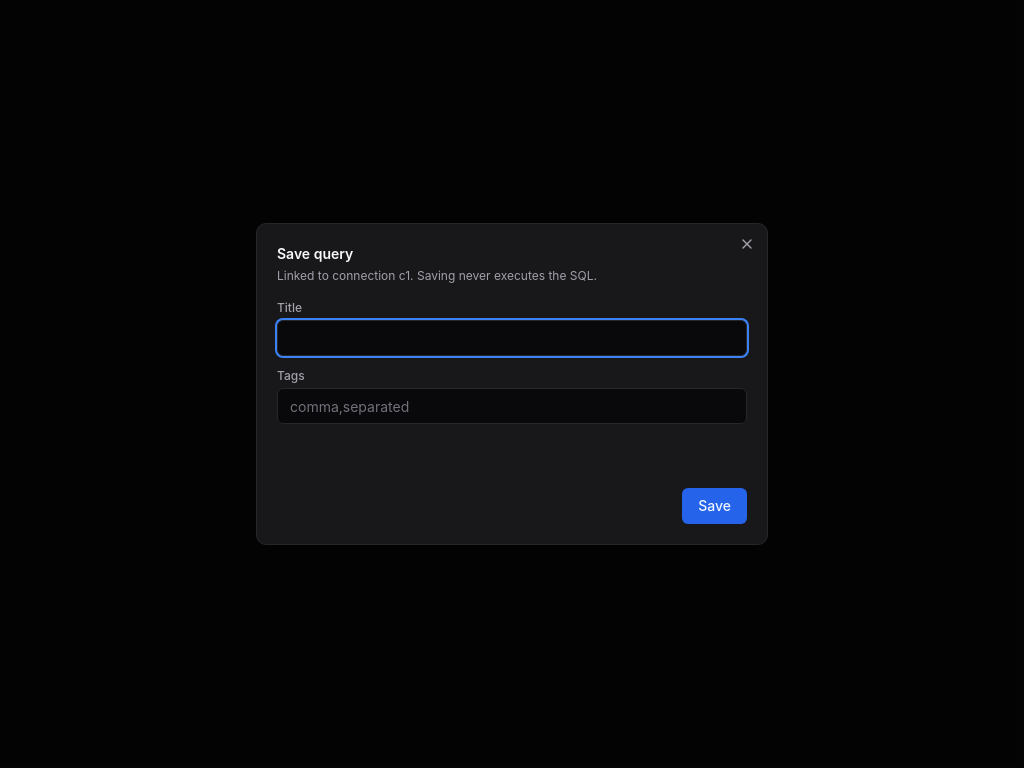
Test case: SaveQueryDialog › keeps the dialog open and shows the error when saving fails
Type "My query" into the field labelled "Title" at (512, 338), box 277,320 -> 747,356
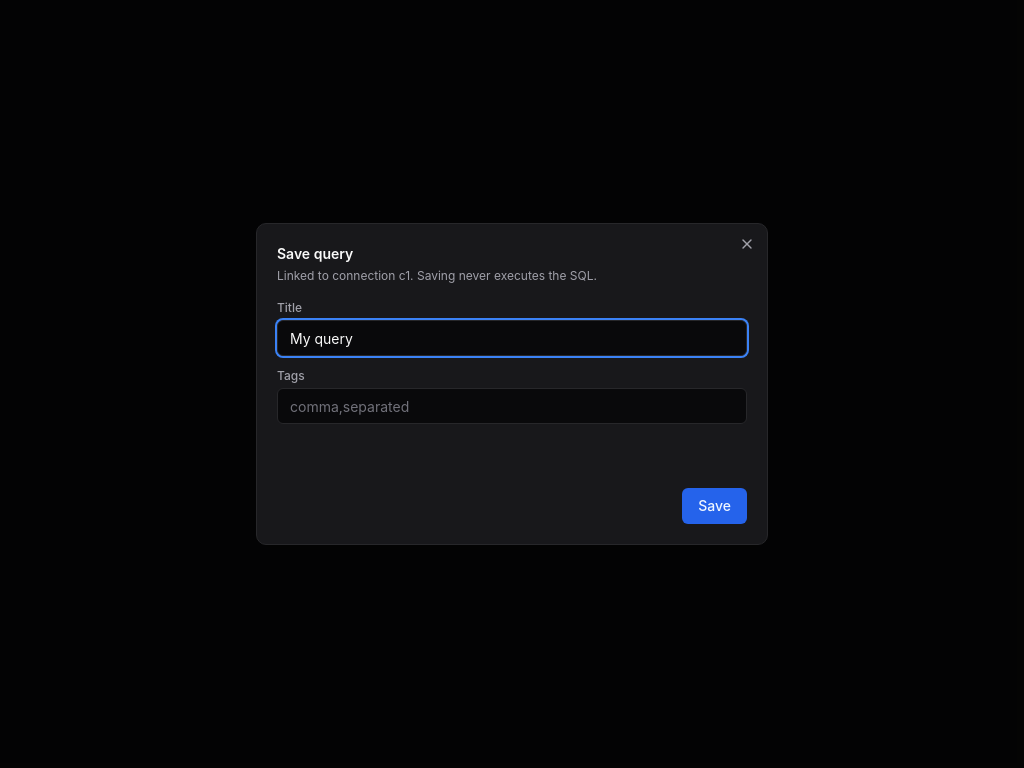
Click the button "Save" at (715, 506), box 682,488 -> 747,524
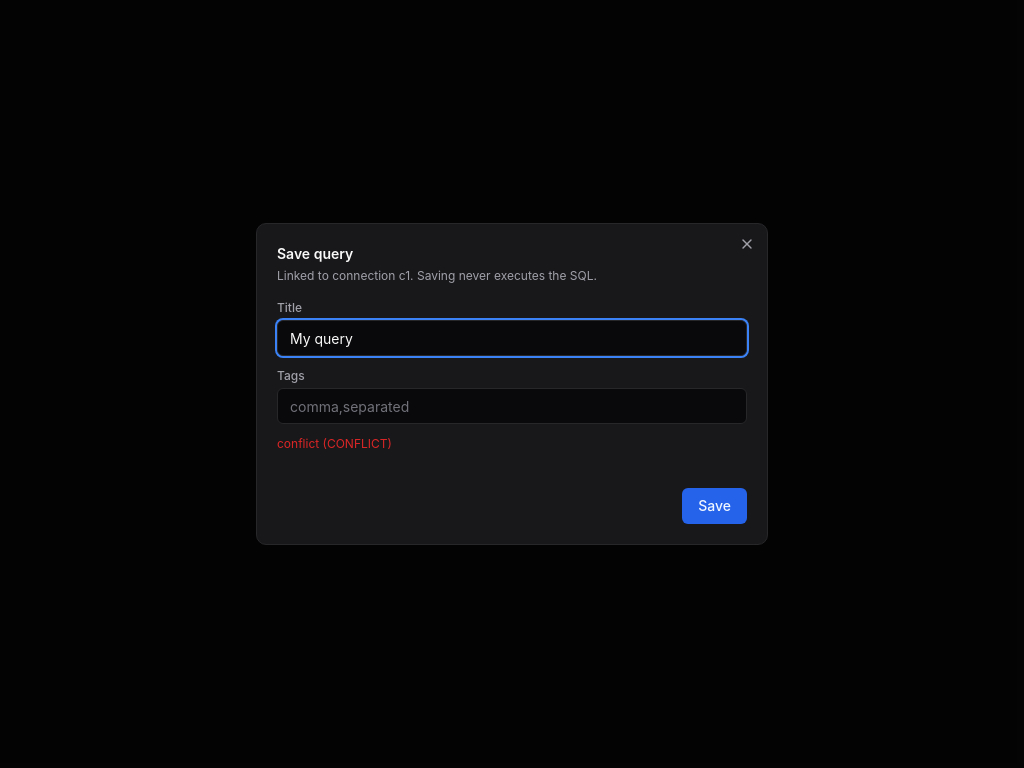
Check: the text "conflict (CONFLICT)" is shown, box 277,436 -> 392,451
